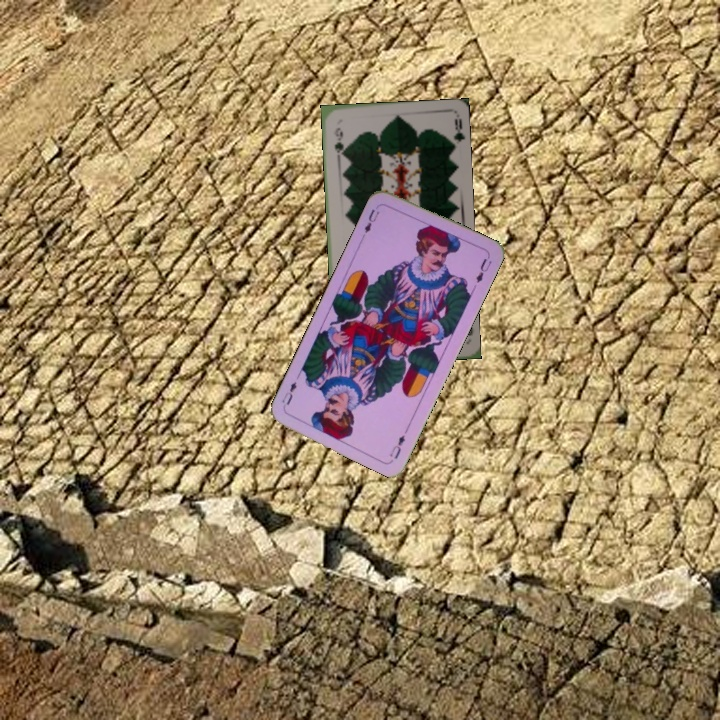EU: (359, 205, 382, 239), (386, 431, 408, 461)
G9: (329, 123, 346, 160)
